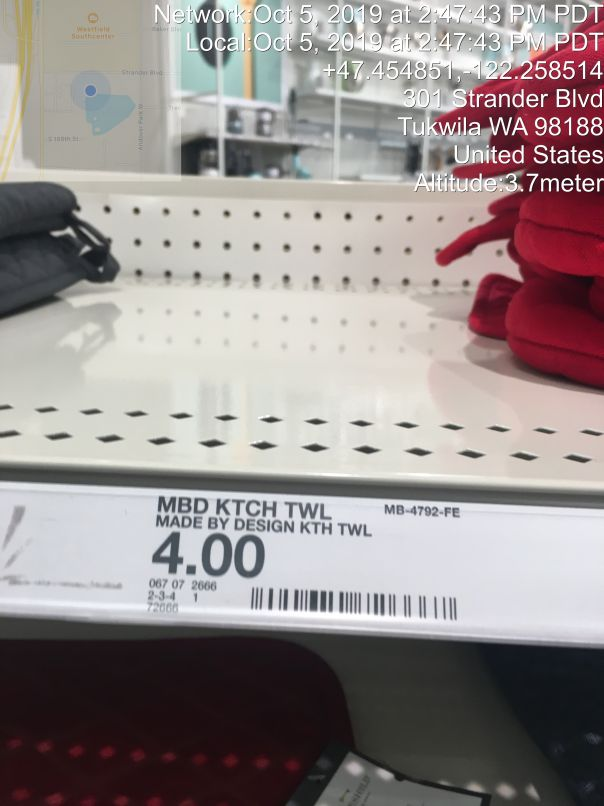Label: (137, 473, 482, 649)
Location: (394, 84, 604, 172)
Time: (147, 2, 604, 58)
Void: (15, 47, 477, 456)
